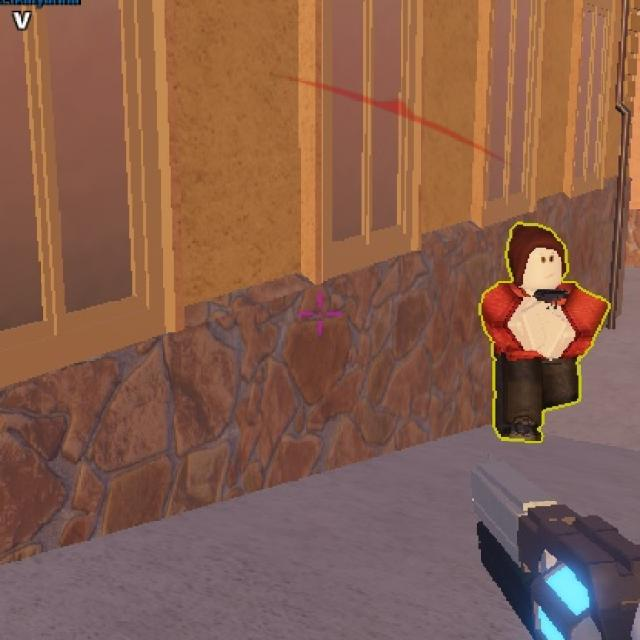player: (480, 216, 613, 447)
